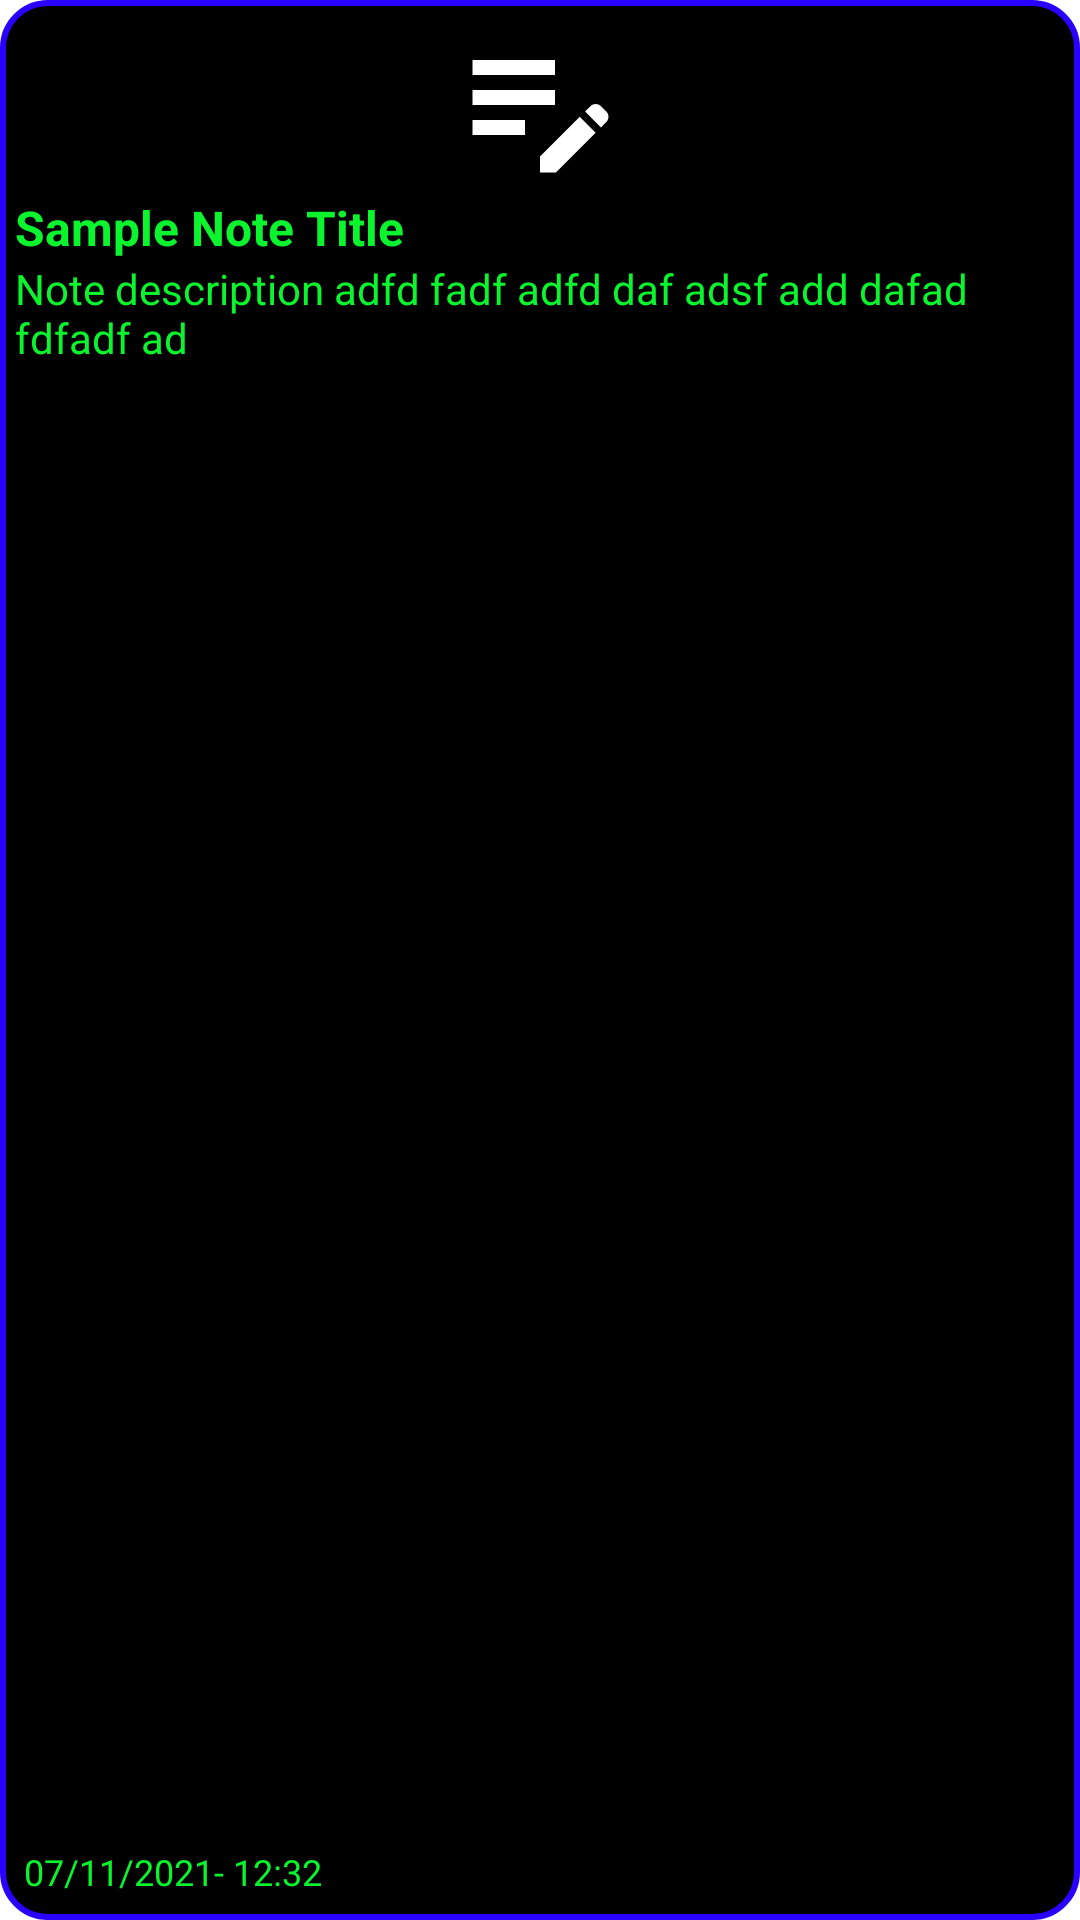

Where icons sit on this 1080 x 1920 app screen, as (x1,y1,x2,y2):
edit note: (472,60,609,173)
